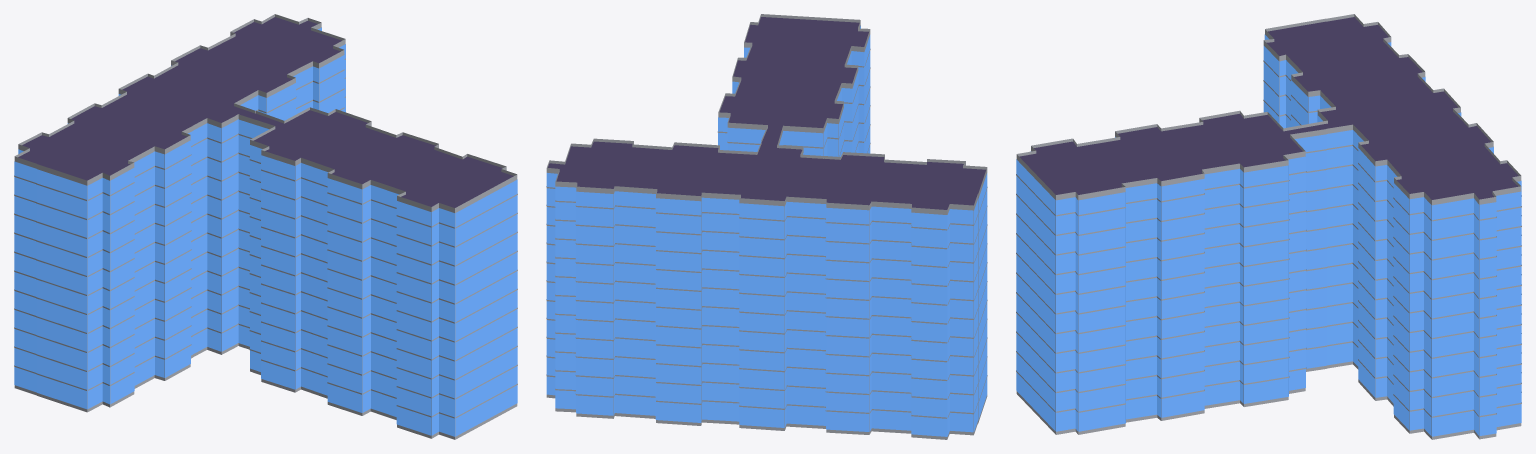
The picture shows the model from 3 angles, left to right: view 1: azimuth 30°, elevation 25°; view 2: azimuth 150°, elevation 25°; view 3: azimuth 270°, elevation 25°; orthographic projection. The views are drawn at different scales.
Parts seen in each view (by area): view 1: campus/b-121-0; view 2: campus/b-121-0; view 3: campus/b-121-0.
Boxes of the visible parts, x1=… form: campus/b-121-0: x1=14, y1=14, x2=517, y2=439; campus/b-121-0: x1=546, y1=14, x2=987, y2=439; campus/b-121-0: x1=1016, y1=14, x2=1521, y2=439.
Size of the model in its own units: 73.3 by 43.95 by 84.
